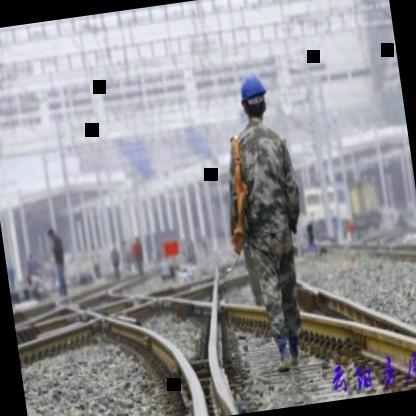helmet: (235, 68, 270, 121)
